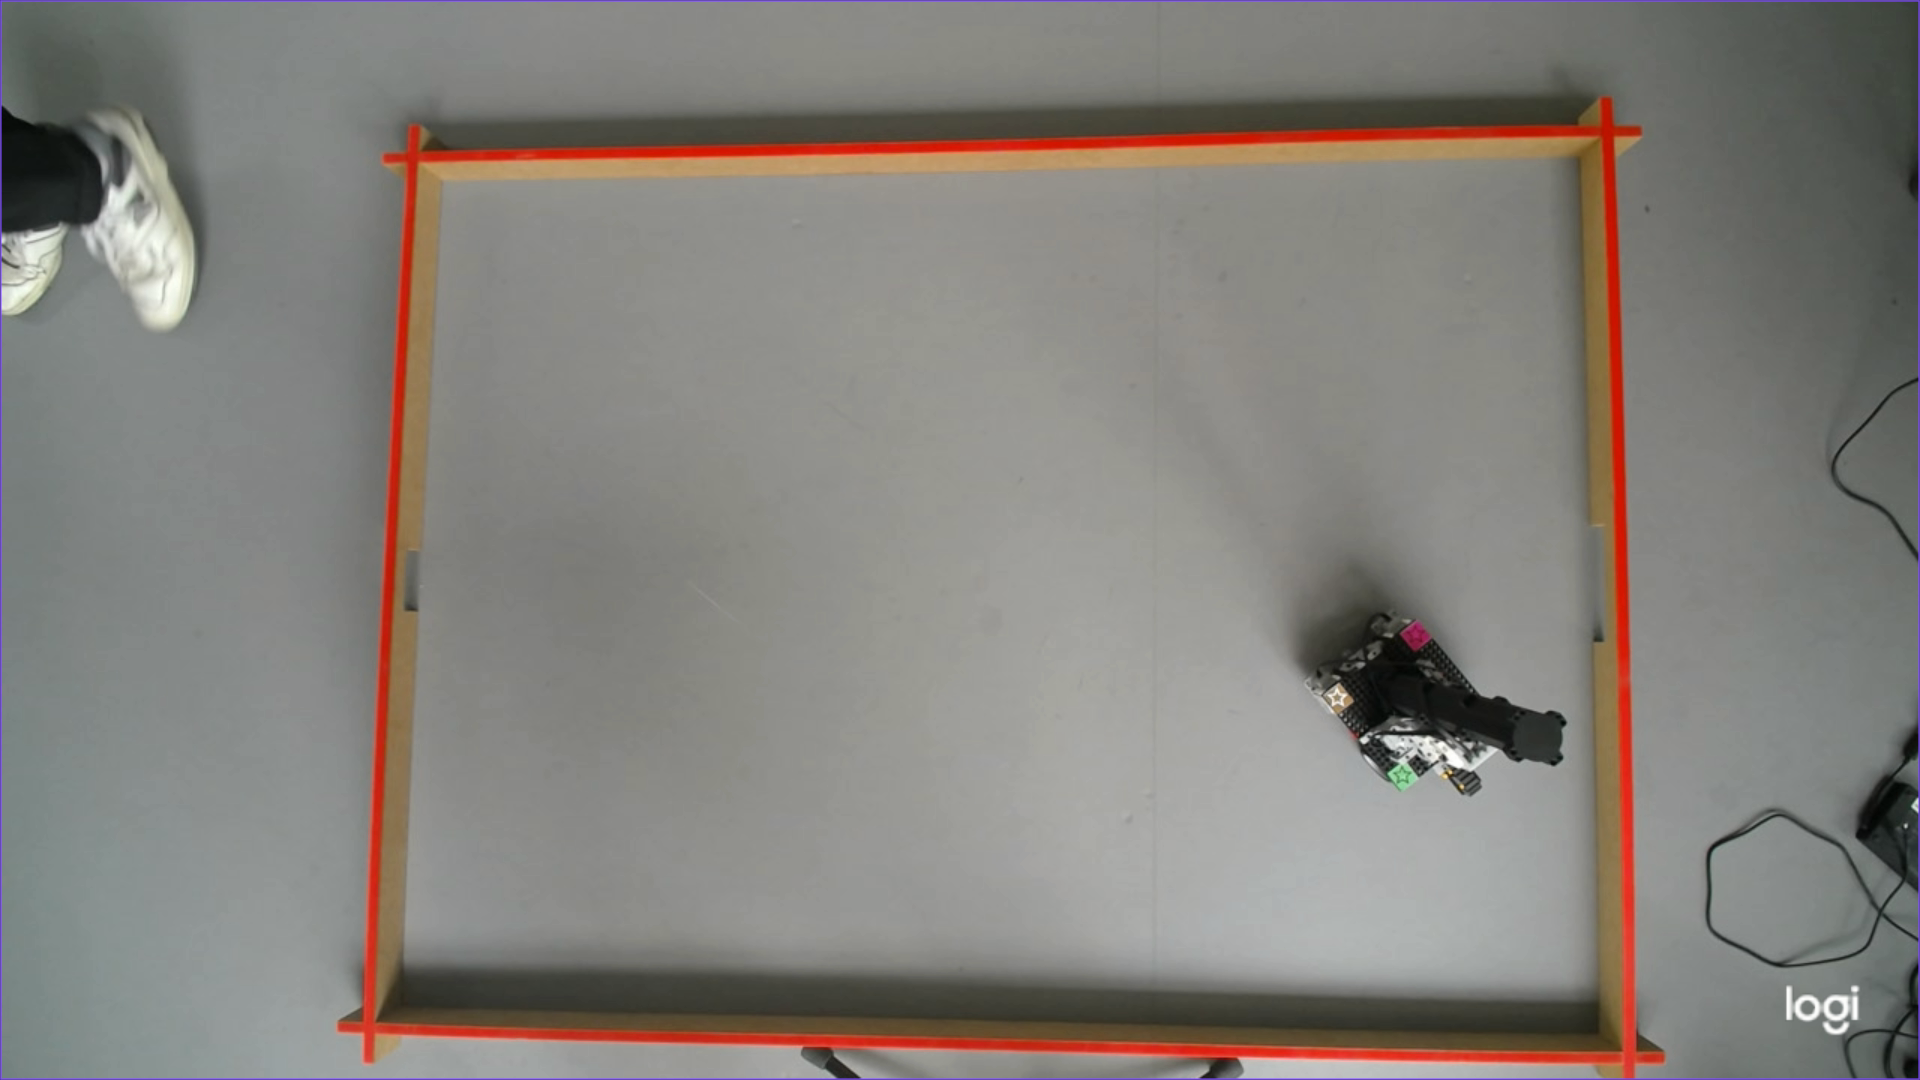corner_brown: (1324, 682, 1353, 713)
corner_green: (1387, 764, 1418, 791)
corner_pink: (1400, 620, 1429, 650)
playfield: (339, 131, 1644, 1073)
playfield_corner: (396, 136, 433, 175), (1589, 109, 1626, 149), (1613, 1035, 1650, 1075), (351, 1005, 388, 1044)
